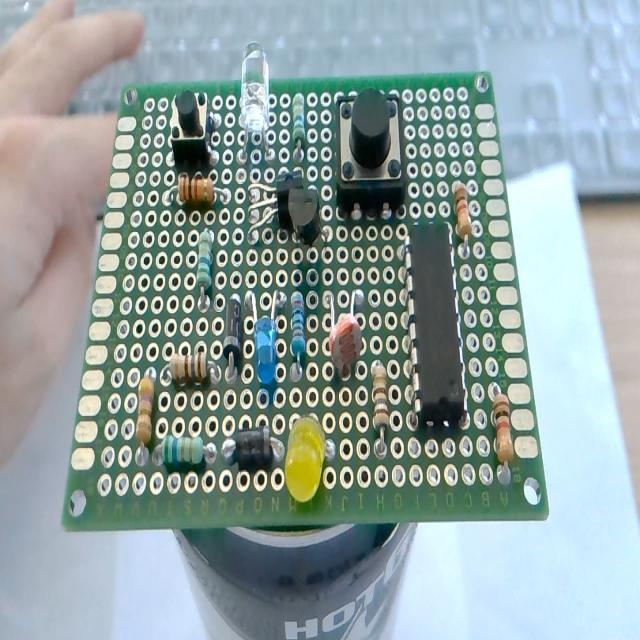IC: (397, 215, 475, 440)
cds: (324, 280, 368, 372)
diode: (224, 418, 283, 476), (223, 287, 245, 389)
led: (234, 39, 276, 171), (282, 410, 338, 508), (246, 286, 288, 382)
resistor: (123, 356, 157, 480), (484, 373, 518, 492), (162, 332, 220, 396), (156, 418, 210, 484), (158, 166, 232, 214), (188, 214, 219, 313), (366, 358, 394, 460), (447, 175, 476, 255), (287, 284, 310, 379), (290, 86, 312, 172)
switch: (323, 87, 411, 224), (168, 87, 218, 165)
transistor: (286, 187, 336, 263)
